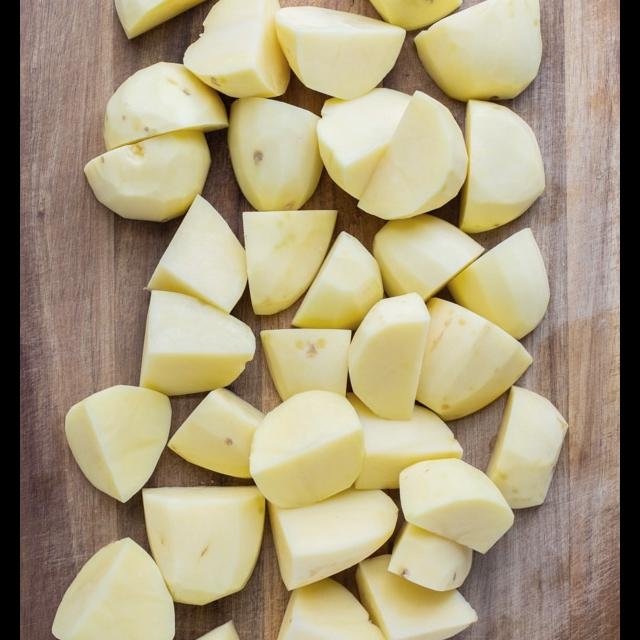potato: (77, 0, 567, 640)
